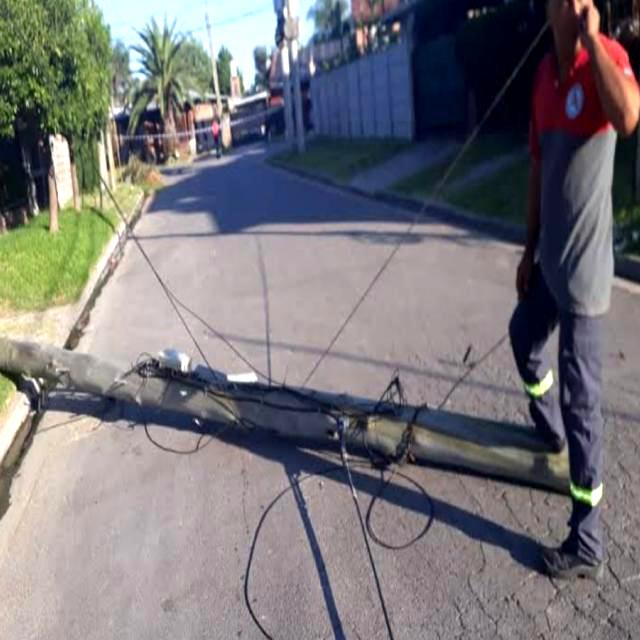Broken Pole: (0, 327, 571, 500)
